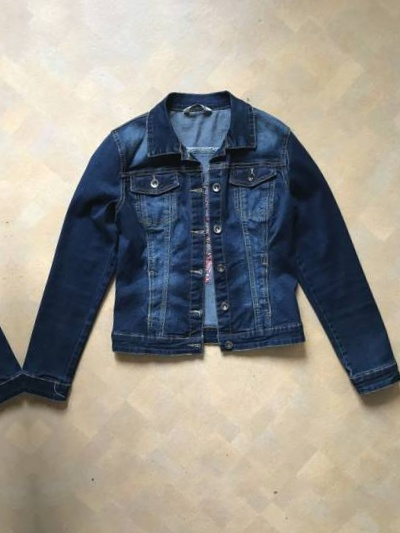Blazer: (0, 70, 400, 445), (0, 110, 26, 485)
